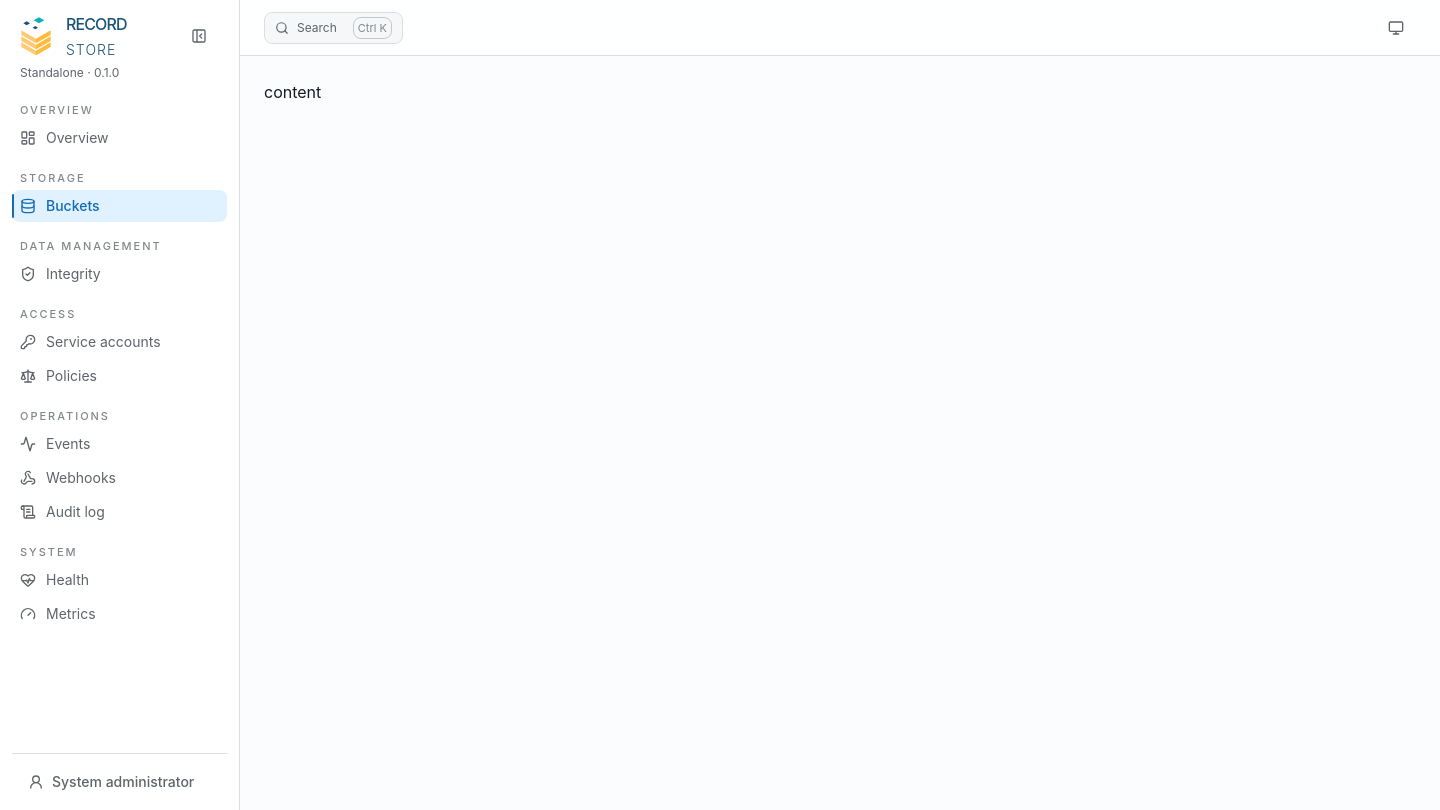
Scenario: AppShell › puts the account menu in the sidebar, not the top bar
Click the button with aria-label "Account:": (120, 782) [16,766,223,798]
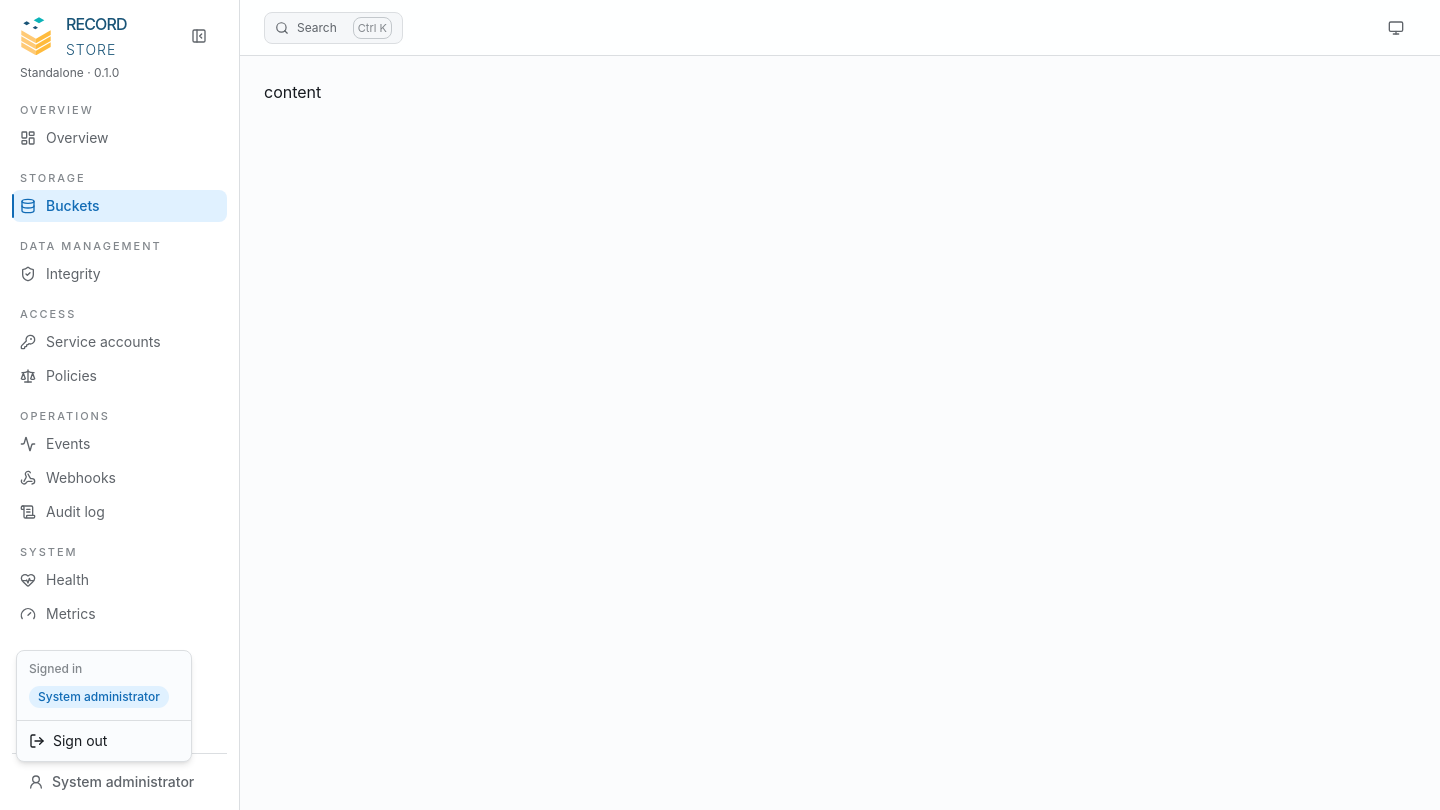
expect the menu item "Sign out" is shown: met, box [29,732,107,749]
